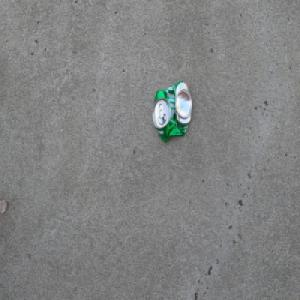SodaCan: (151, 79, 192, 143)
